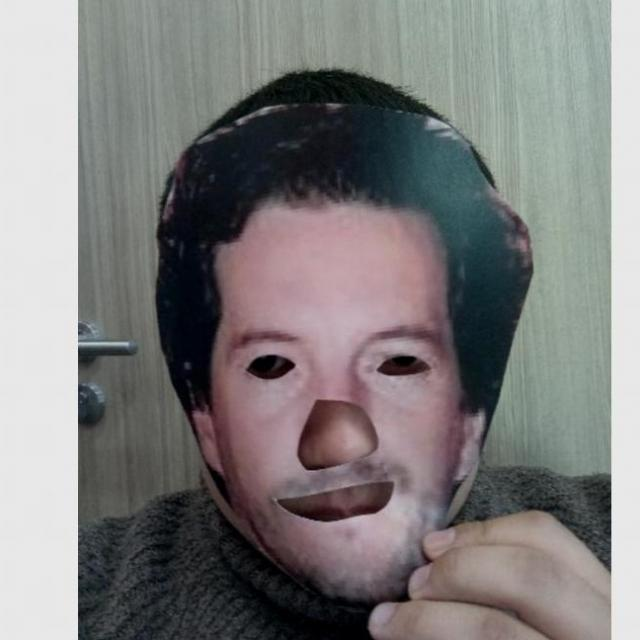mask: (153, 105, 536, 612)
